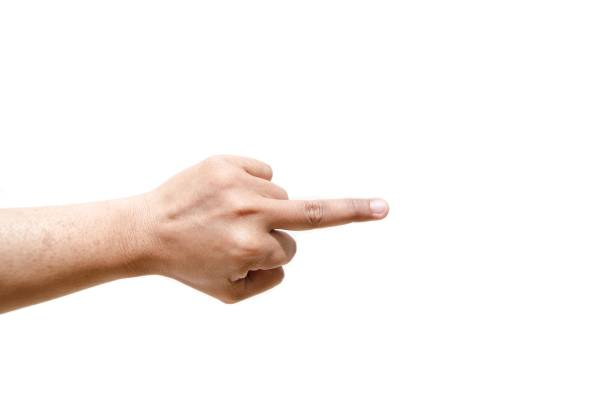insulting_gesture: (119, 153, 390, 306)
